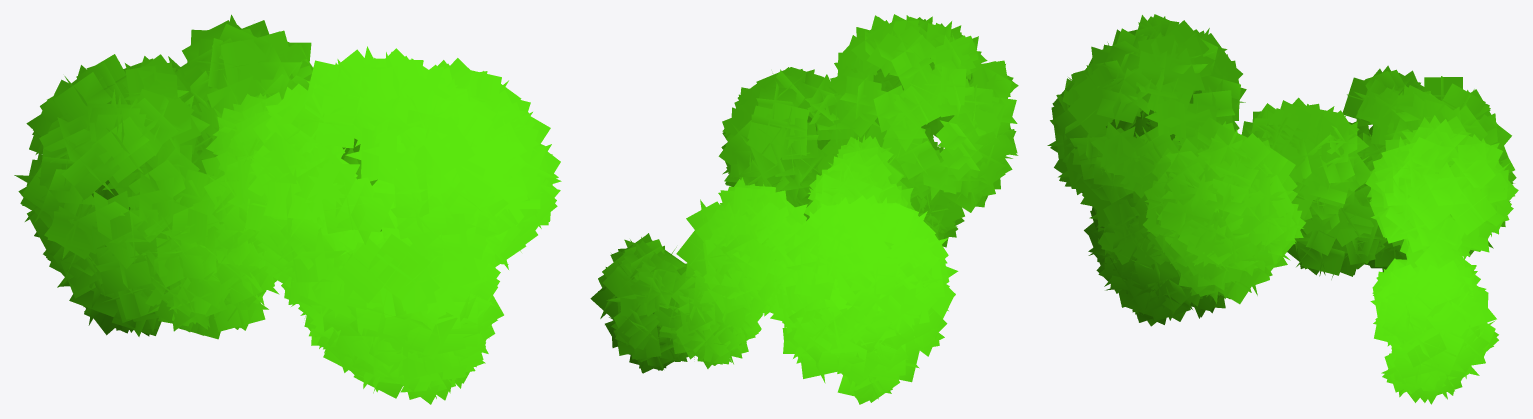
File: Leave.fbx
3 renders of one model, left to right at view 1: azimuth 30°, elevation 25°; view 2: azimuth 150°, elevation 25°; view 3: azimuth 270°, elevation 25°, orthographic. The views are drawn at different scales.
Visible parts, largest first — view 1: Leaves.001; view 2: Leaves.001; view 3: Leaves.001.
Part boxes in pixels (left/top/right/bottom): Leaves.001: left=14, top=14, right=561, bottom=404; Leaves.001: left=590, top=14, right=1018, bottom=404; Leaves.001: left=1047, top=14, right=1518, bottom=404.
Bounding box in the file's own units: 679 × 552 × 781.
